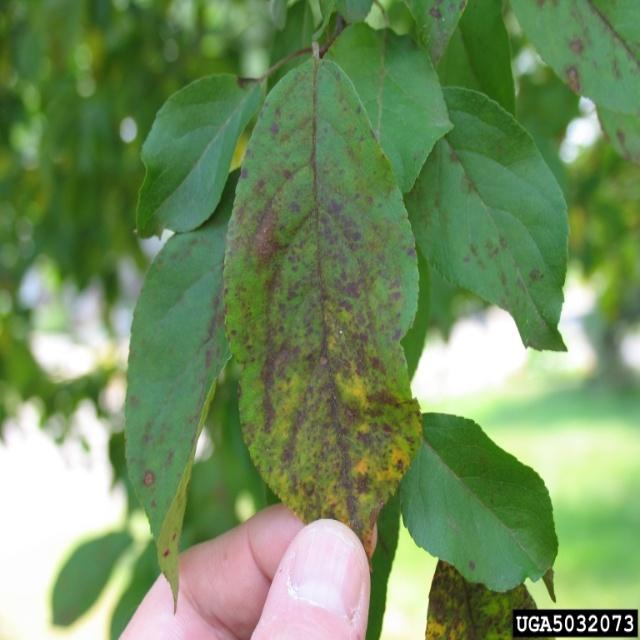shot_hole: (222, 47, 428, 544), (485, 0, 640, 126)
